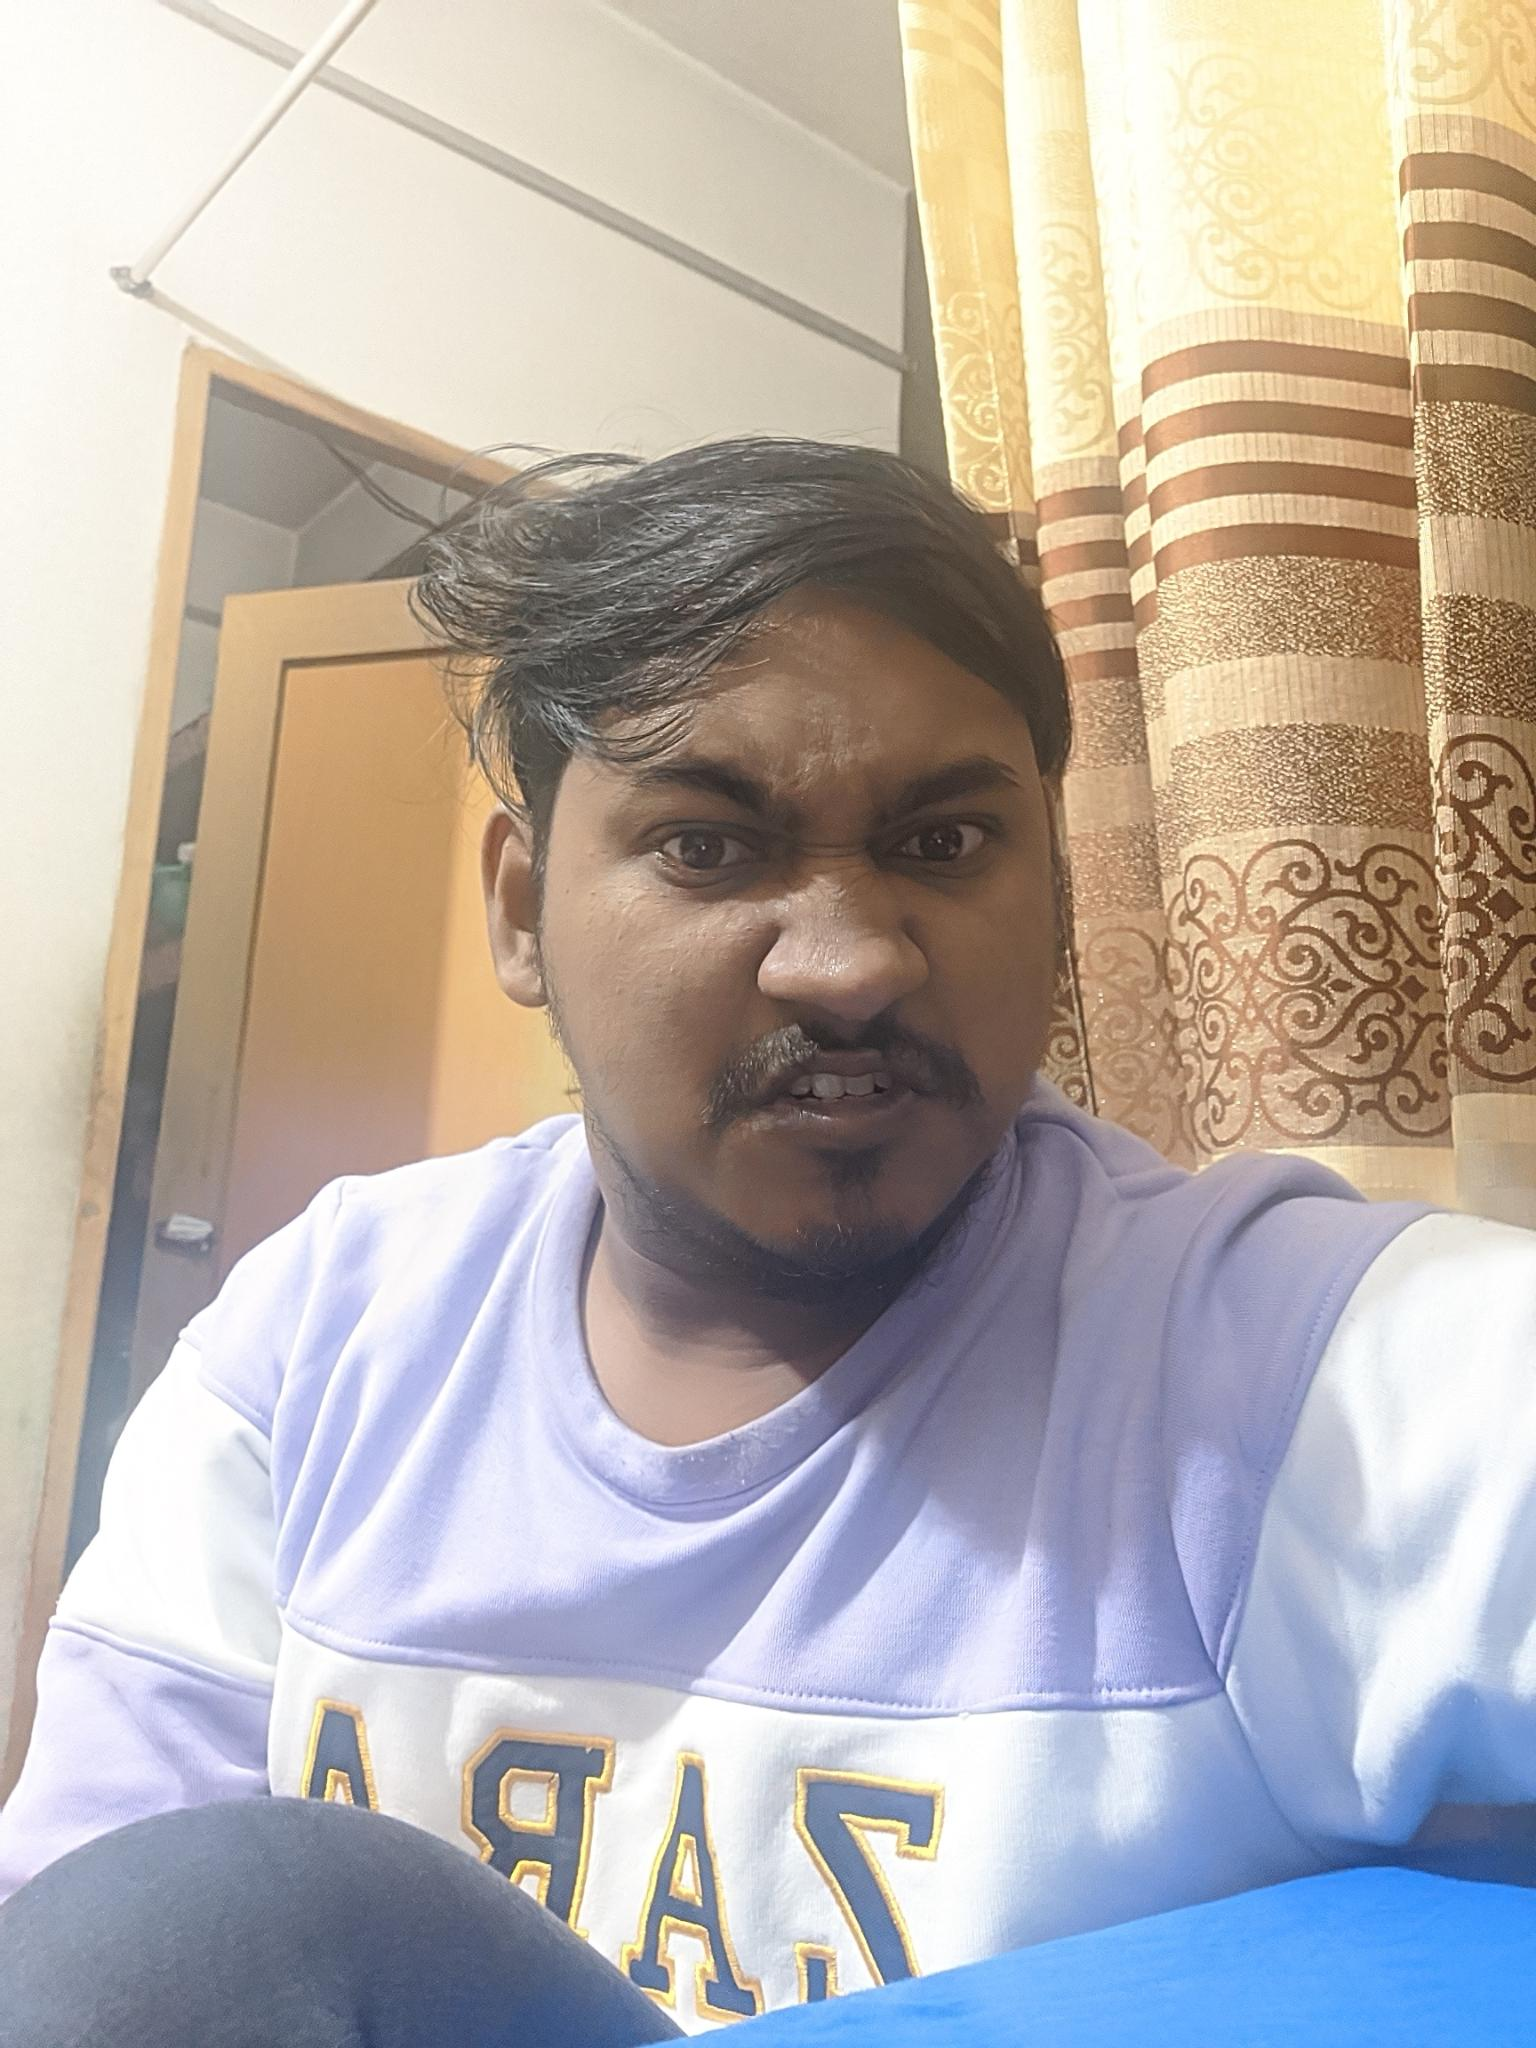Angry: (536, 655, 1117, 1279)
